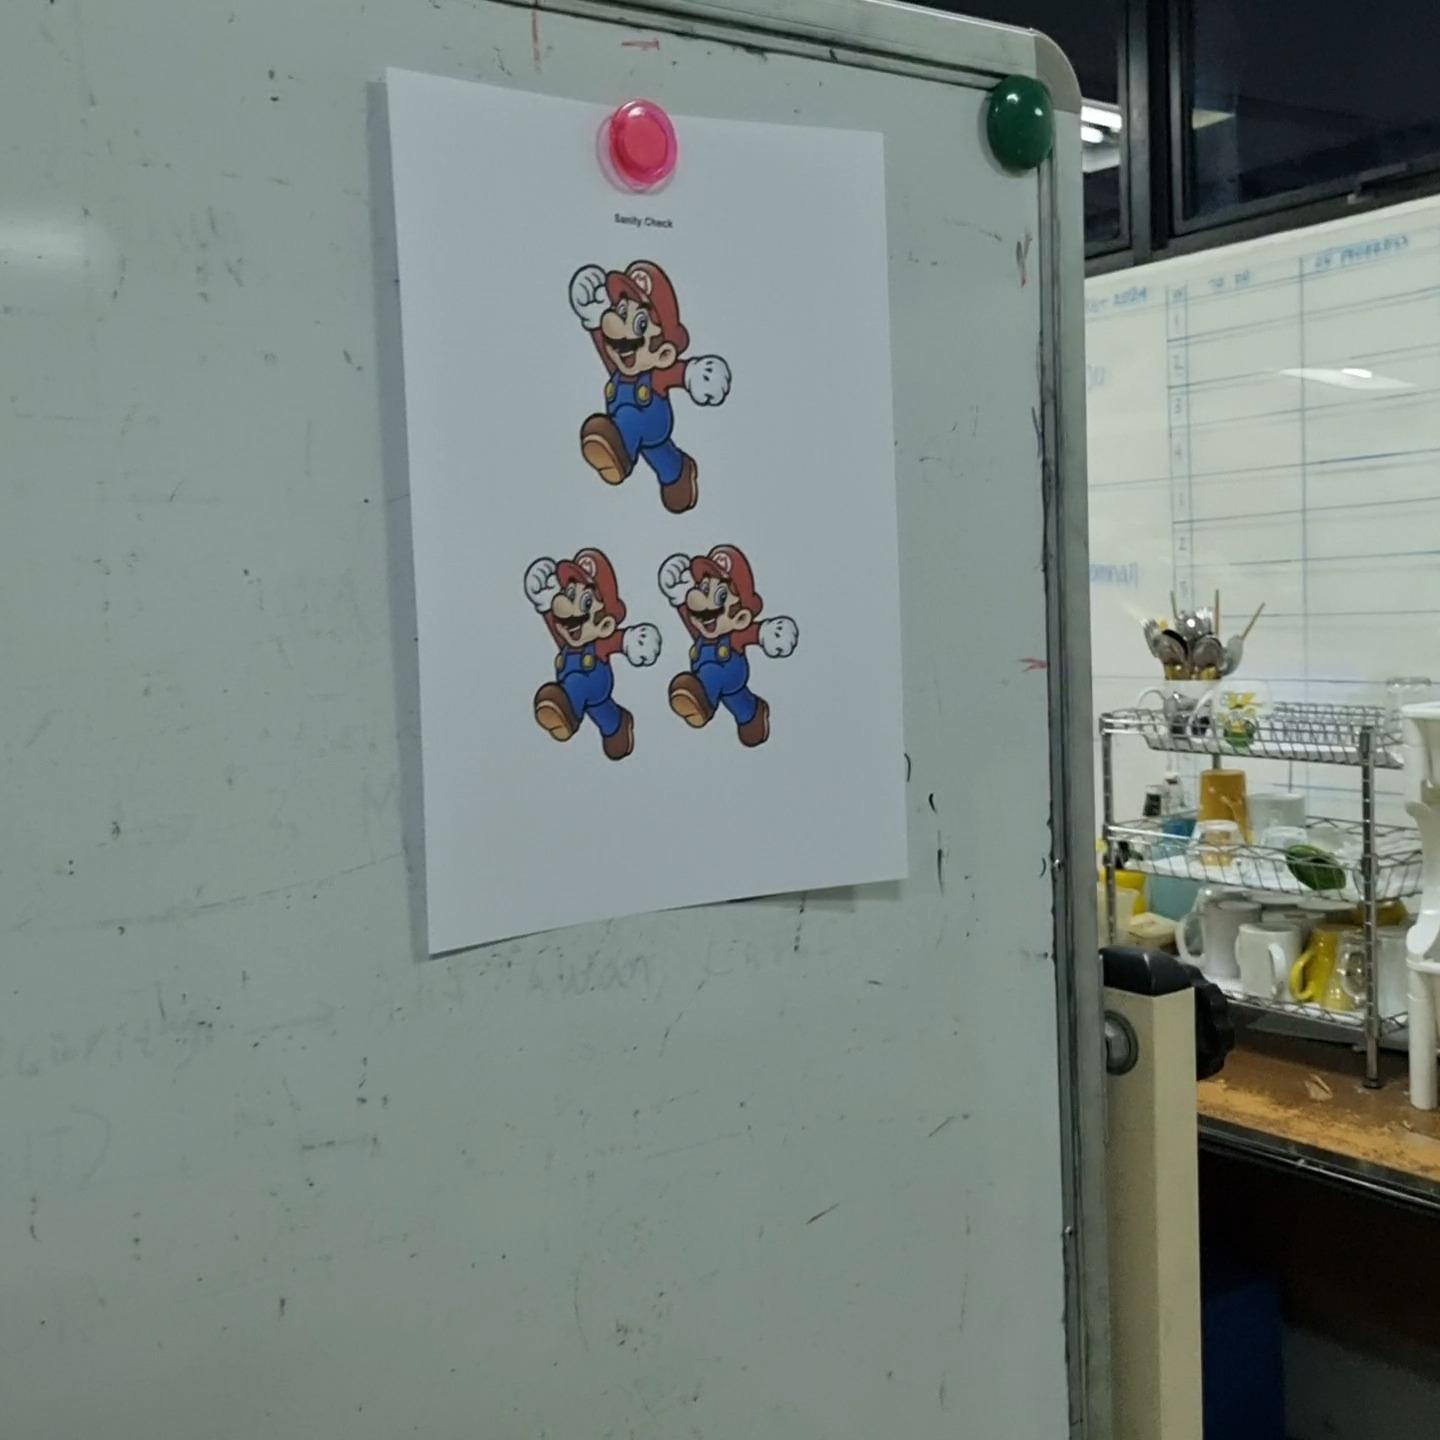mario: (560, 248, 740, 522), (653, 539, 814, 757), (517, 537, 665, 770)
